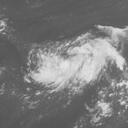cyclone: (28, 25, 127, 96)
